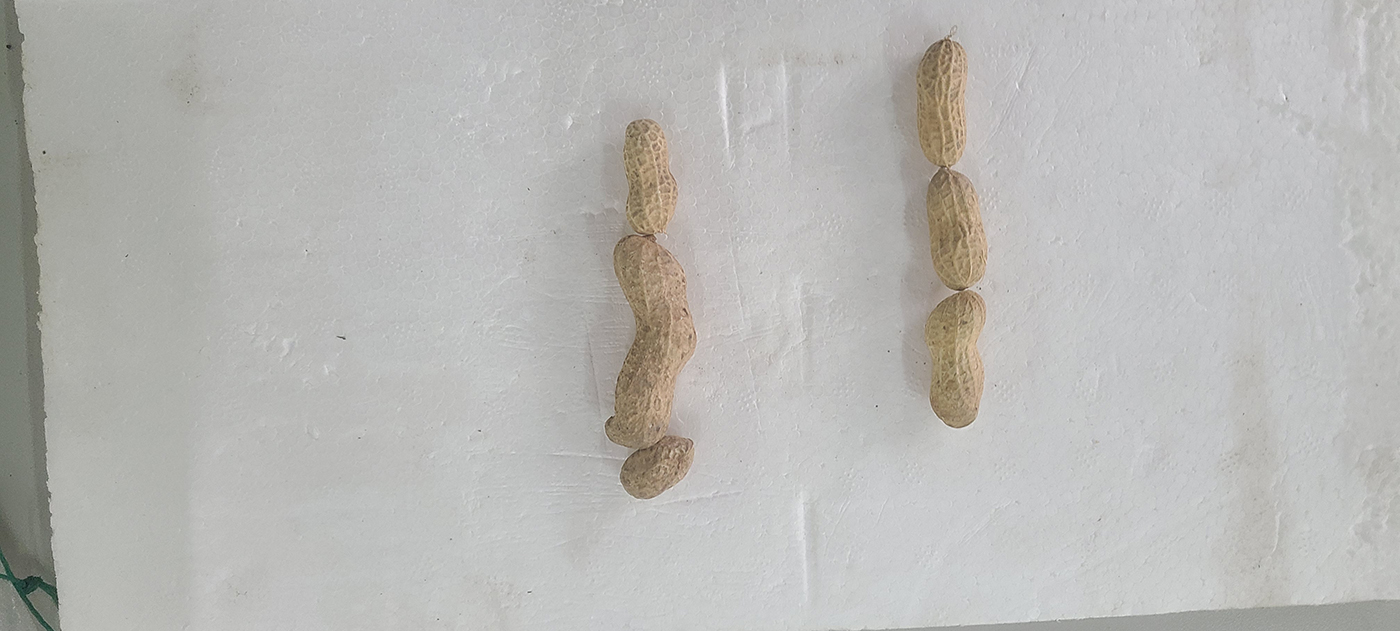h: (606, 236, 696, 450), (924, 292, 988, 427), (927, 167, 989, 288), (916, 38, 971, 170), (622, 117, 679, 236)
l: (621, 435, 697, 499)
